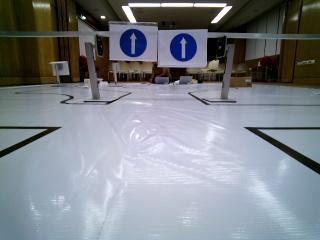straight: (157, 29, 209, 66), (111, 22, 156, 59)
